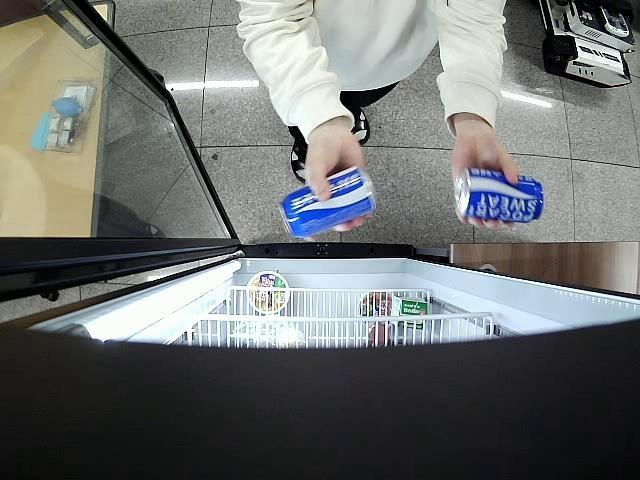13_pocariSweat: (280, 166, 374, 237), (452, 168, 544, 225)
